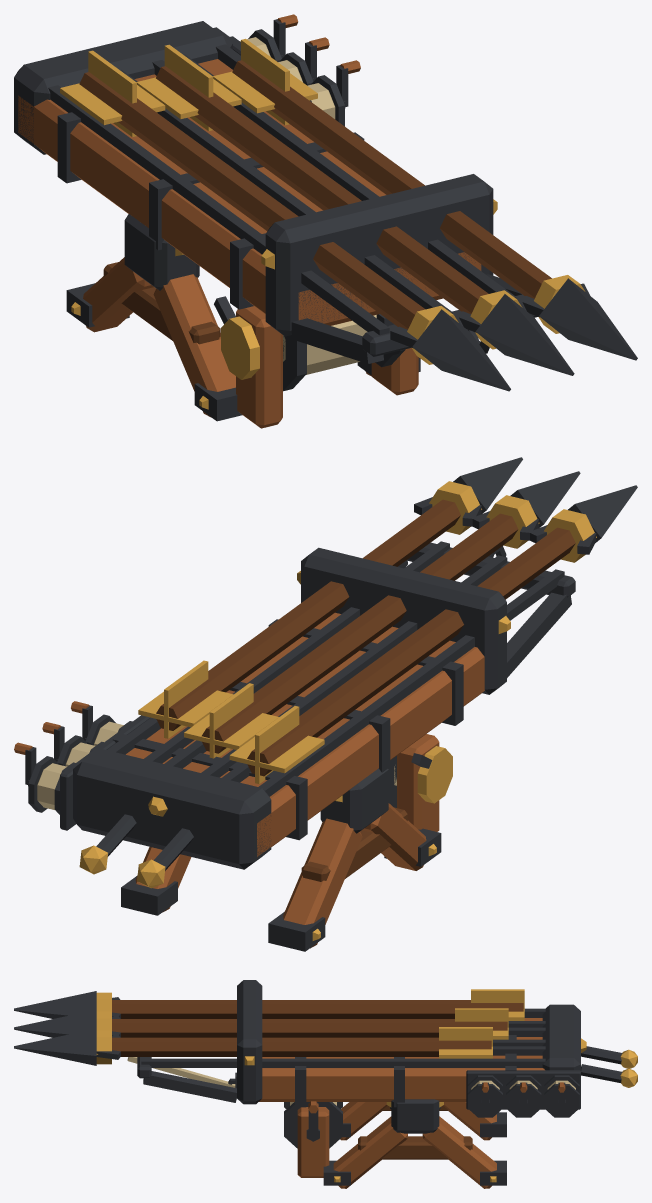
The model's file is HarpoonA1.obj.
3 views of the same model, one above another, from view 1: azimuth 30°, elevation 25°; view 2: azimuth 150°, elevation 25°; view 3: azimuth 270°, elevation 25° (orthographic). The views are drawn at different scales.
Parts seen in each view (by area): view 1: HarpoonA1; view 2: HarpoonA1; view 3: HarpoonA1.
Part boxes in pixels (left/top/right/bottom): HarpoonA1: left=14, top=14, right=637, bottom=428; HarpoonA1: left=14, top=457, right=637, bottom=951; HarpoonA1: left=14, top=980, right=637, bottom=1188.
Bounding box in the file's own units: 0.7638 × 0.6327 × 2.35.
